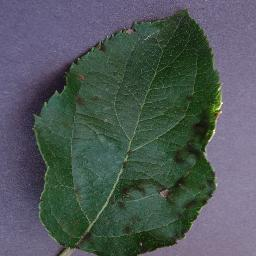apple healthy: (31, 7, 224, 255)
